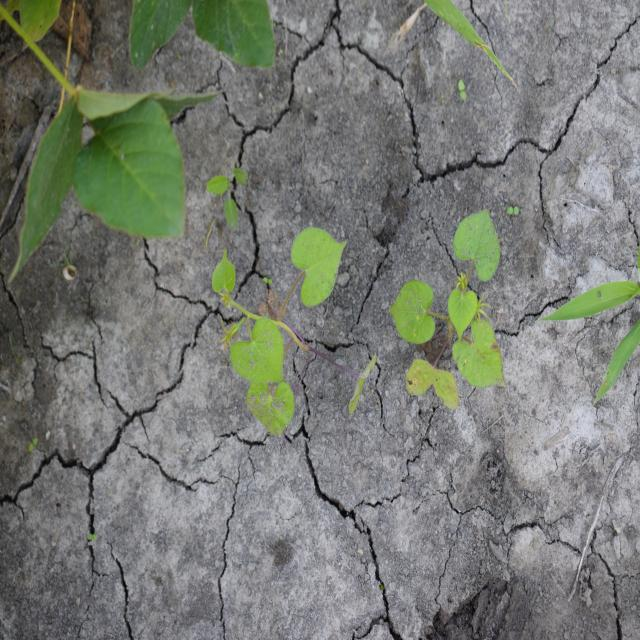MorningGlory: (211, 225, 378, 438), (386, 207, 508, 412)
